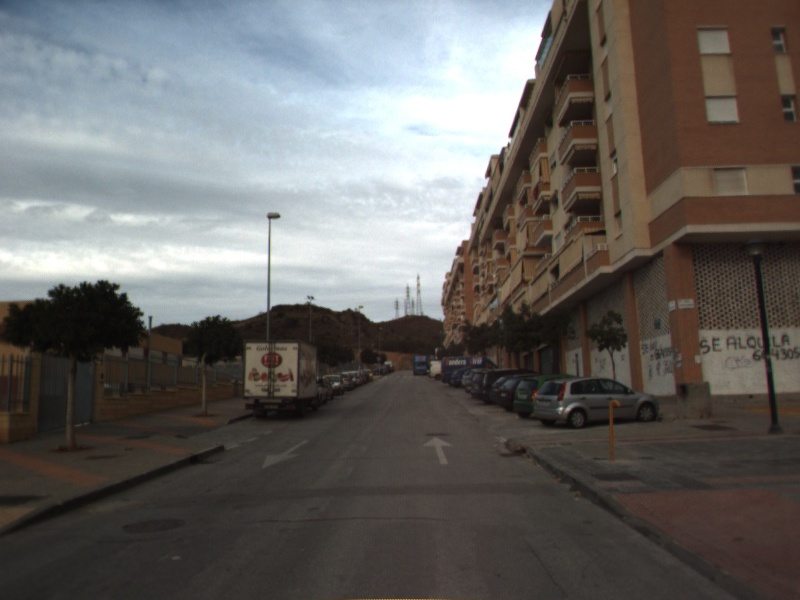STRAIGHT: (421, 435, 455, 466)
